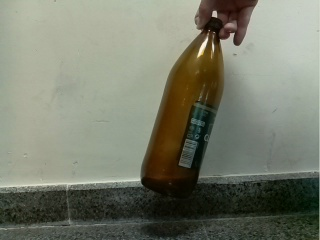pote cristal: (140, 17, 225, 197)
